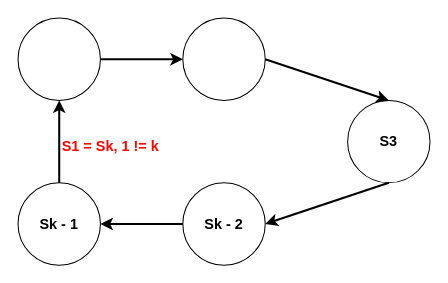
The diagram is 448 pixels wide and 283 high, and some of its shapes have lost their labels. Each missing label, with the centre of its shape:
"S1 (Sk)" goes at (58,58).
"S2" goes at (223,58).
